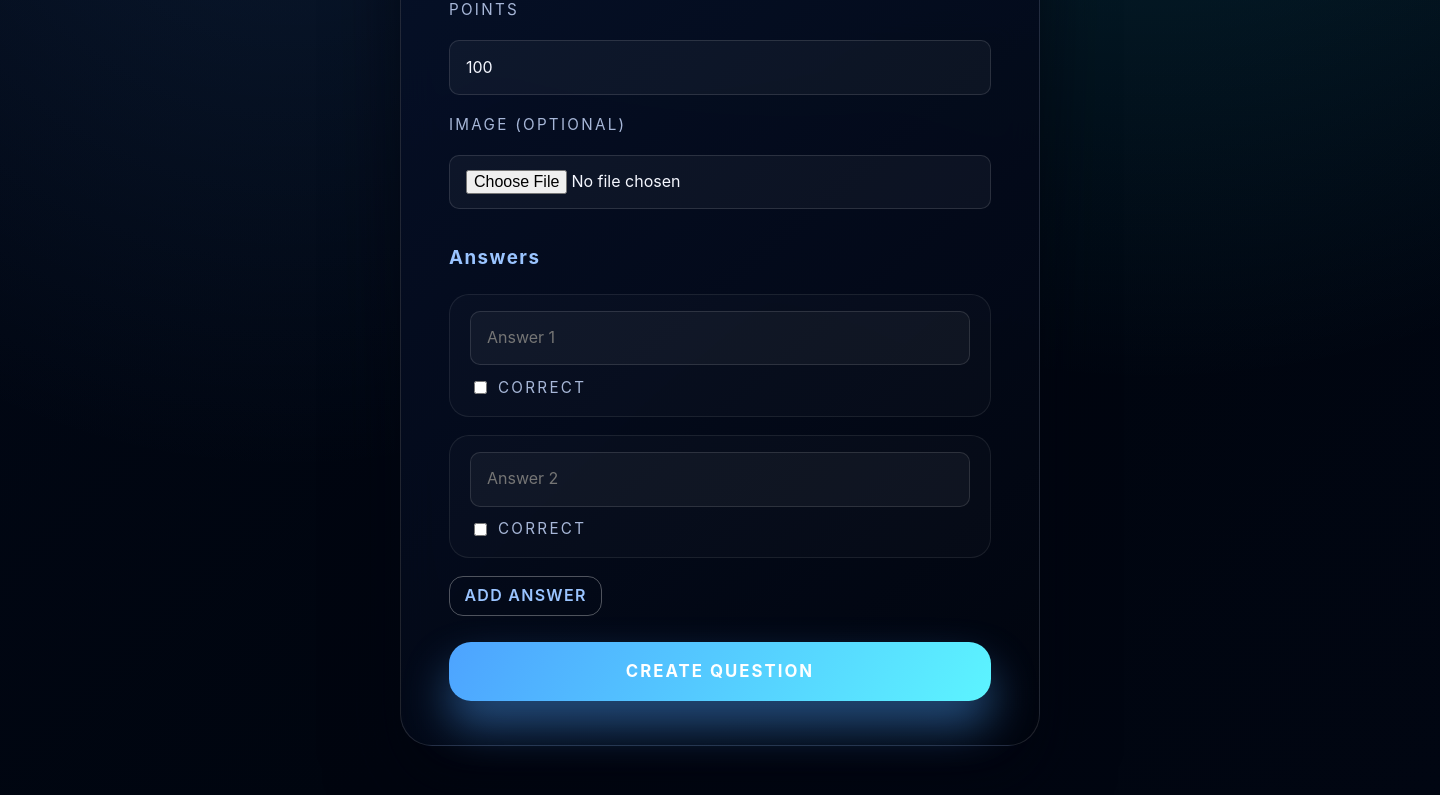
Test: CreateQuestions Component › removes answer when more than 2 answers exist
The image size is (1440, 795).
(page scrolled)
Step 1. Click the button "Add Answer" → [526, 596], box [449,576,602,616]
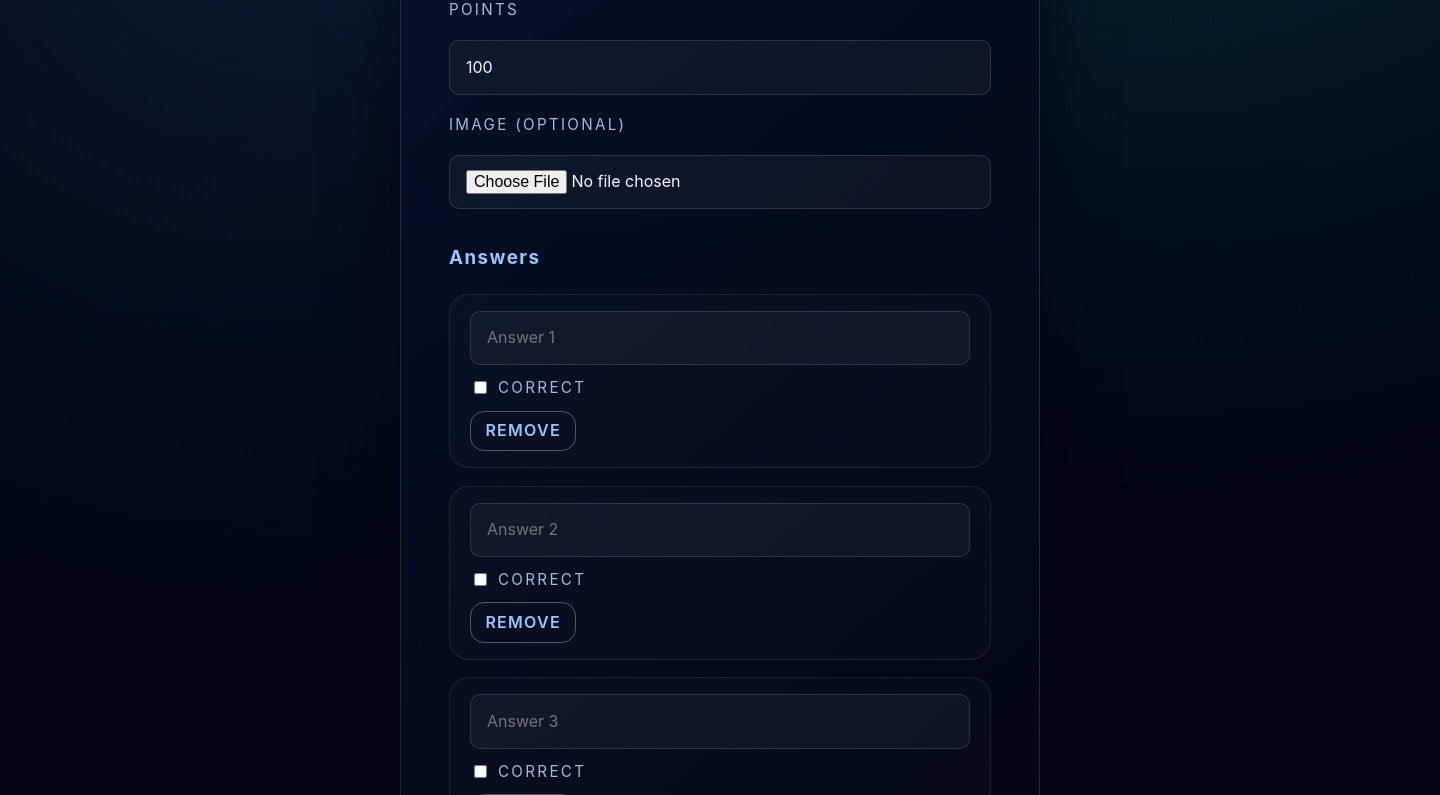
Step 2. Click the 1st button "Remove" → [523, 431], box [470,410,576,451]
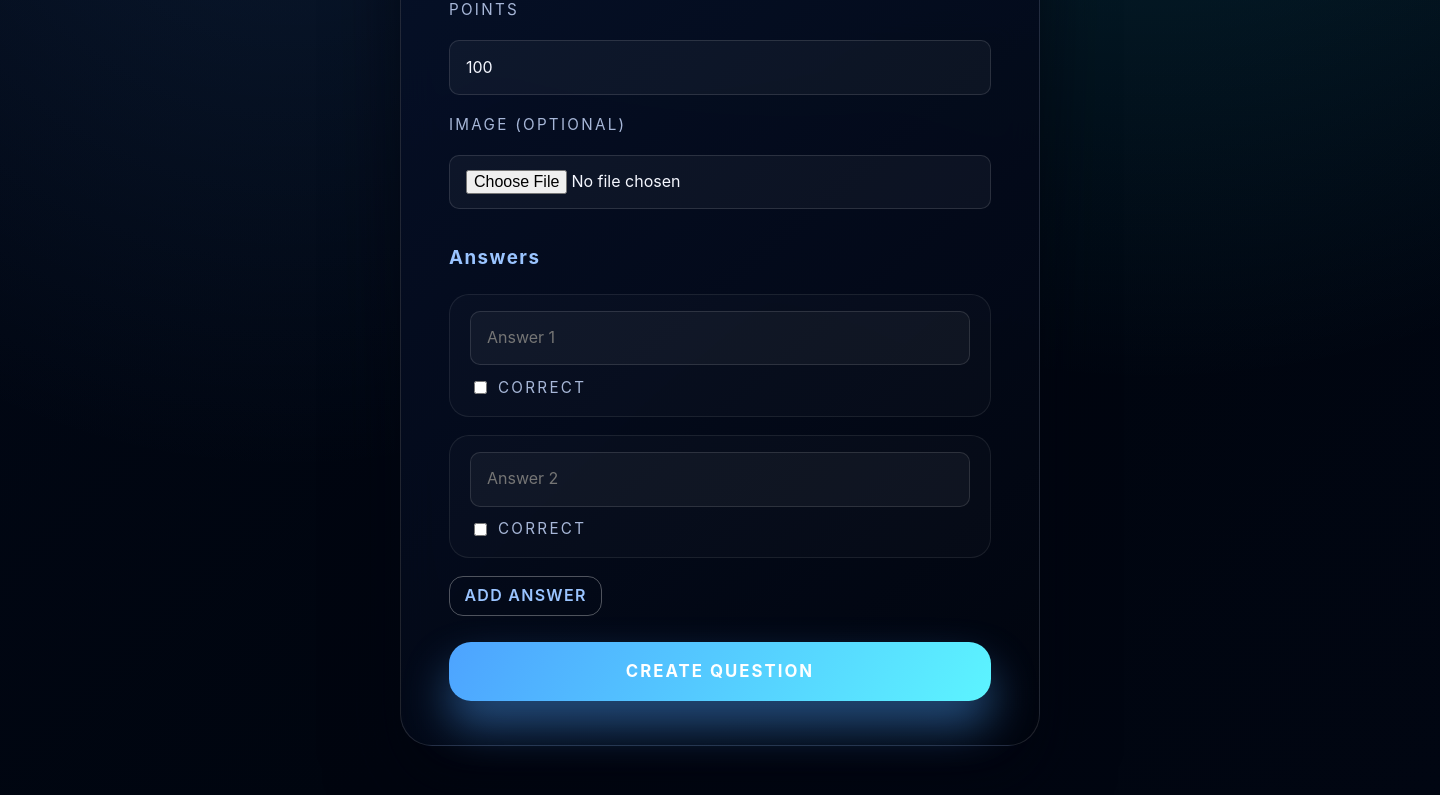
Check: the number of fields with placeholder "Answer 1" is 2, box [470,311,970,366]; [470,452,970,506]
